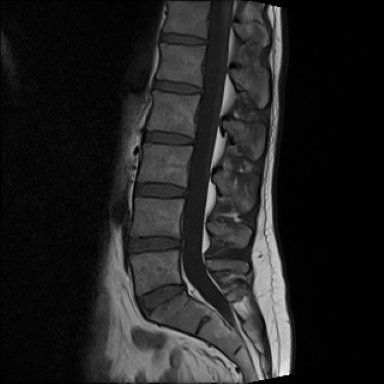Lumbar Disc Bulge (LDB): (131, 277, 192, 323), (123, 232, 191, 258)
Normal IVD: (125, 179, 193, 202), (133, 127, 198, 149), (144, 75, 208, 97), (156, 29, 213, 49)
Spinal Stenosis (SS): (173, 231, 189, 257), (175, 274, 188, 298)
